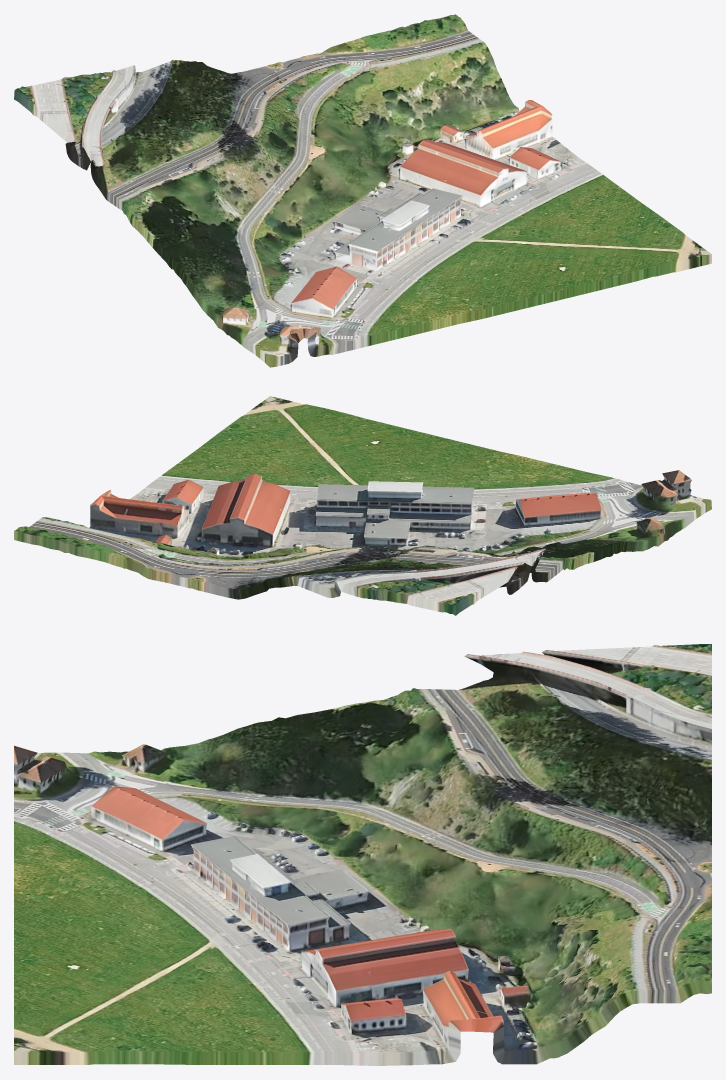
The model's file is z17-20946-50648-h0-yup-uvflip-v3-world.glb.
3 views of the same model, one above another, from view 1: azimuth 30°, elevation 25°; view 2: azimuth 150°, elevation 25°; view 3: azimuth 270°, elevation 25° (orthographic). The views are drawn at different scales.
Size of the model in its own units: 242 by 50.24 by 243.
1 material, 1 textured.
